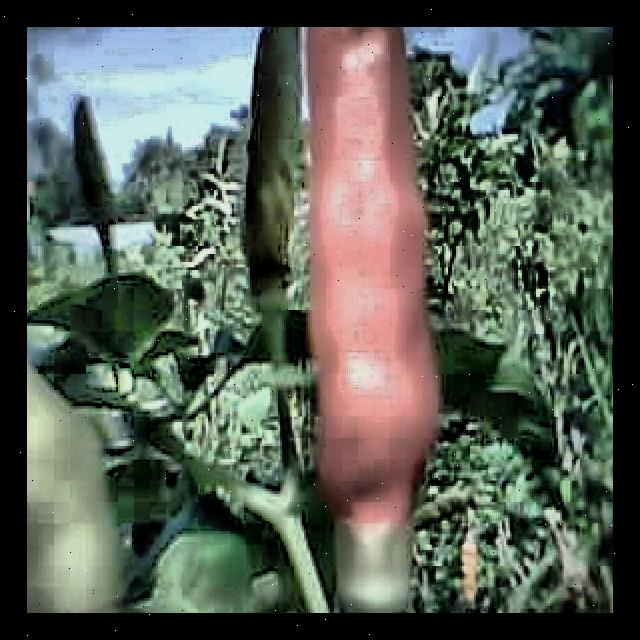Cabai: (307, 27, 439, 610)
